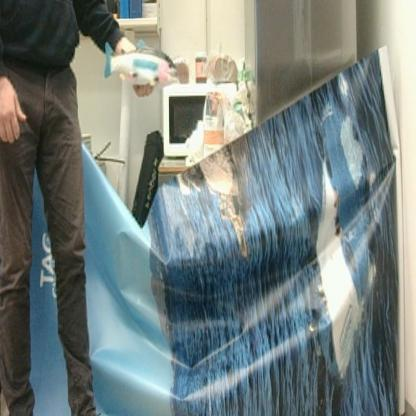rubberfish: (103, 36, 180, 89)
